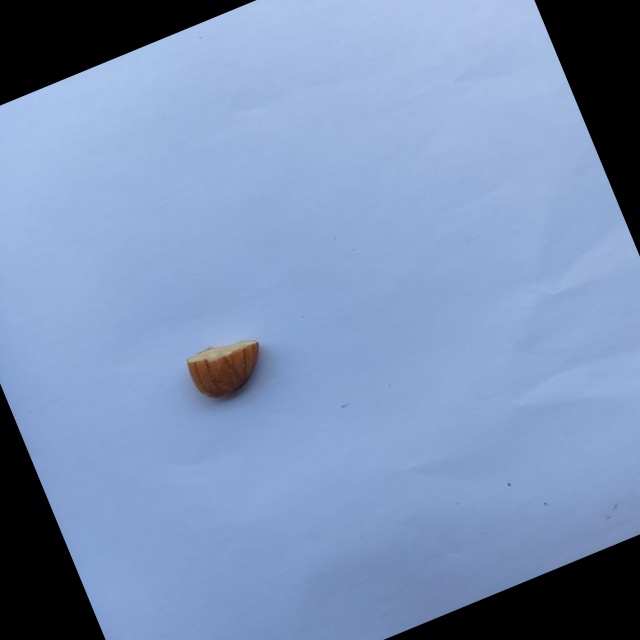grade4: (175, 322, 283, 415)
